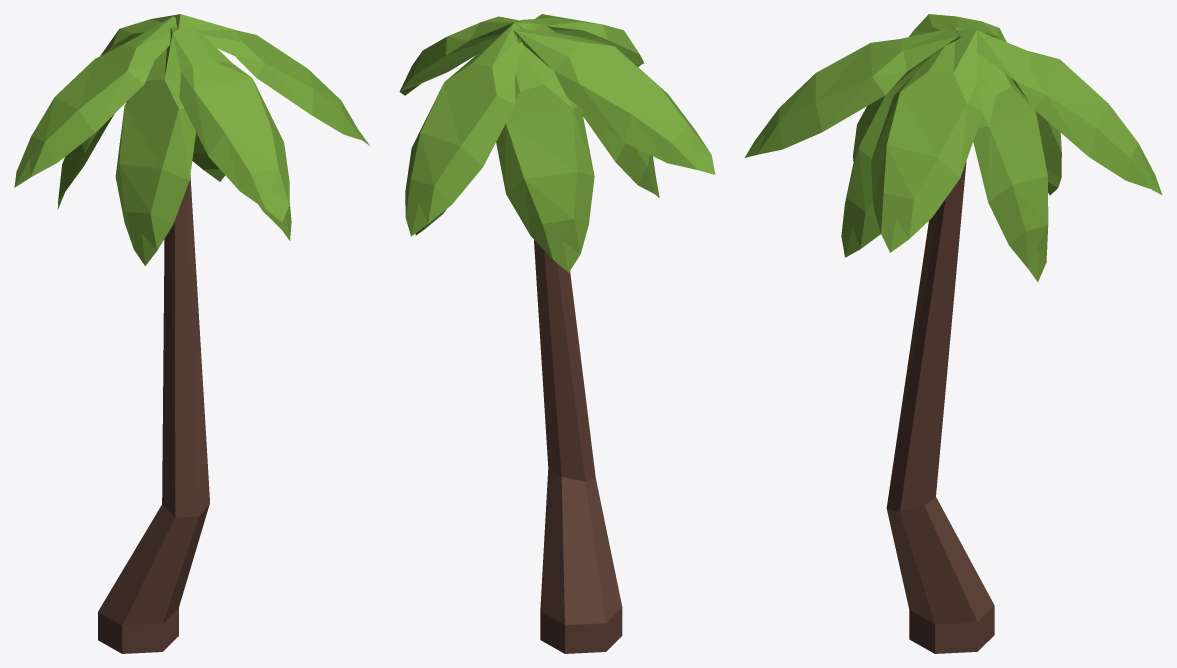
The picture shows the model from 3 angles, left to right: view 1: azimuth 30°, elevation 25°; view 2: azimuth 150°, elevation 25°; view 3: azimuth 270°, elevation 25°; orthographic projection. The views are drawn at different scales.
Visible parts, largest first — view 1: node_MeshObject-1510690048-PolyPaper20; view 2: node_MeshObject-1510690048-PolyPaper20; view 3: node_MeshObject-1510690048-PolyPaper20.
Part boxes in pixels (x1,y1,x2,y2): node_MeshObject-1510690048-PolyPaper20: (14,14,369,653); node_MeshObject-1510690048-PolyPaper20: (399,14,715,653); node_MeshObject-1510690048-PolyPaper20: (744,14,1162,653).
Size of the model in its own units: 0.2345 by 0.4078 by 0.2434.
